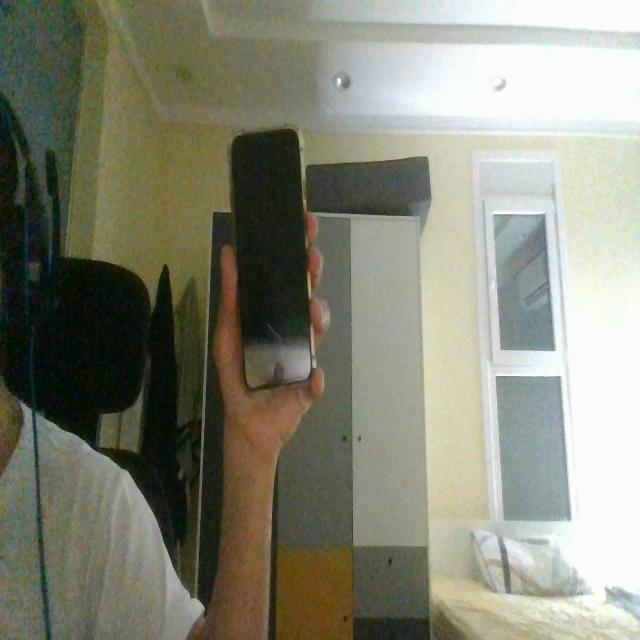Phone: (228, 125, 317, 395)
